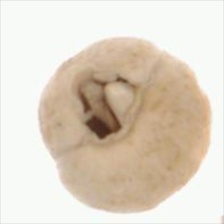L3: (70, 67, 140, 145)
L4: (36, 35, 212, 214)
